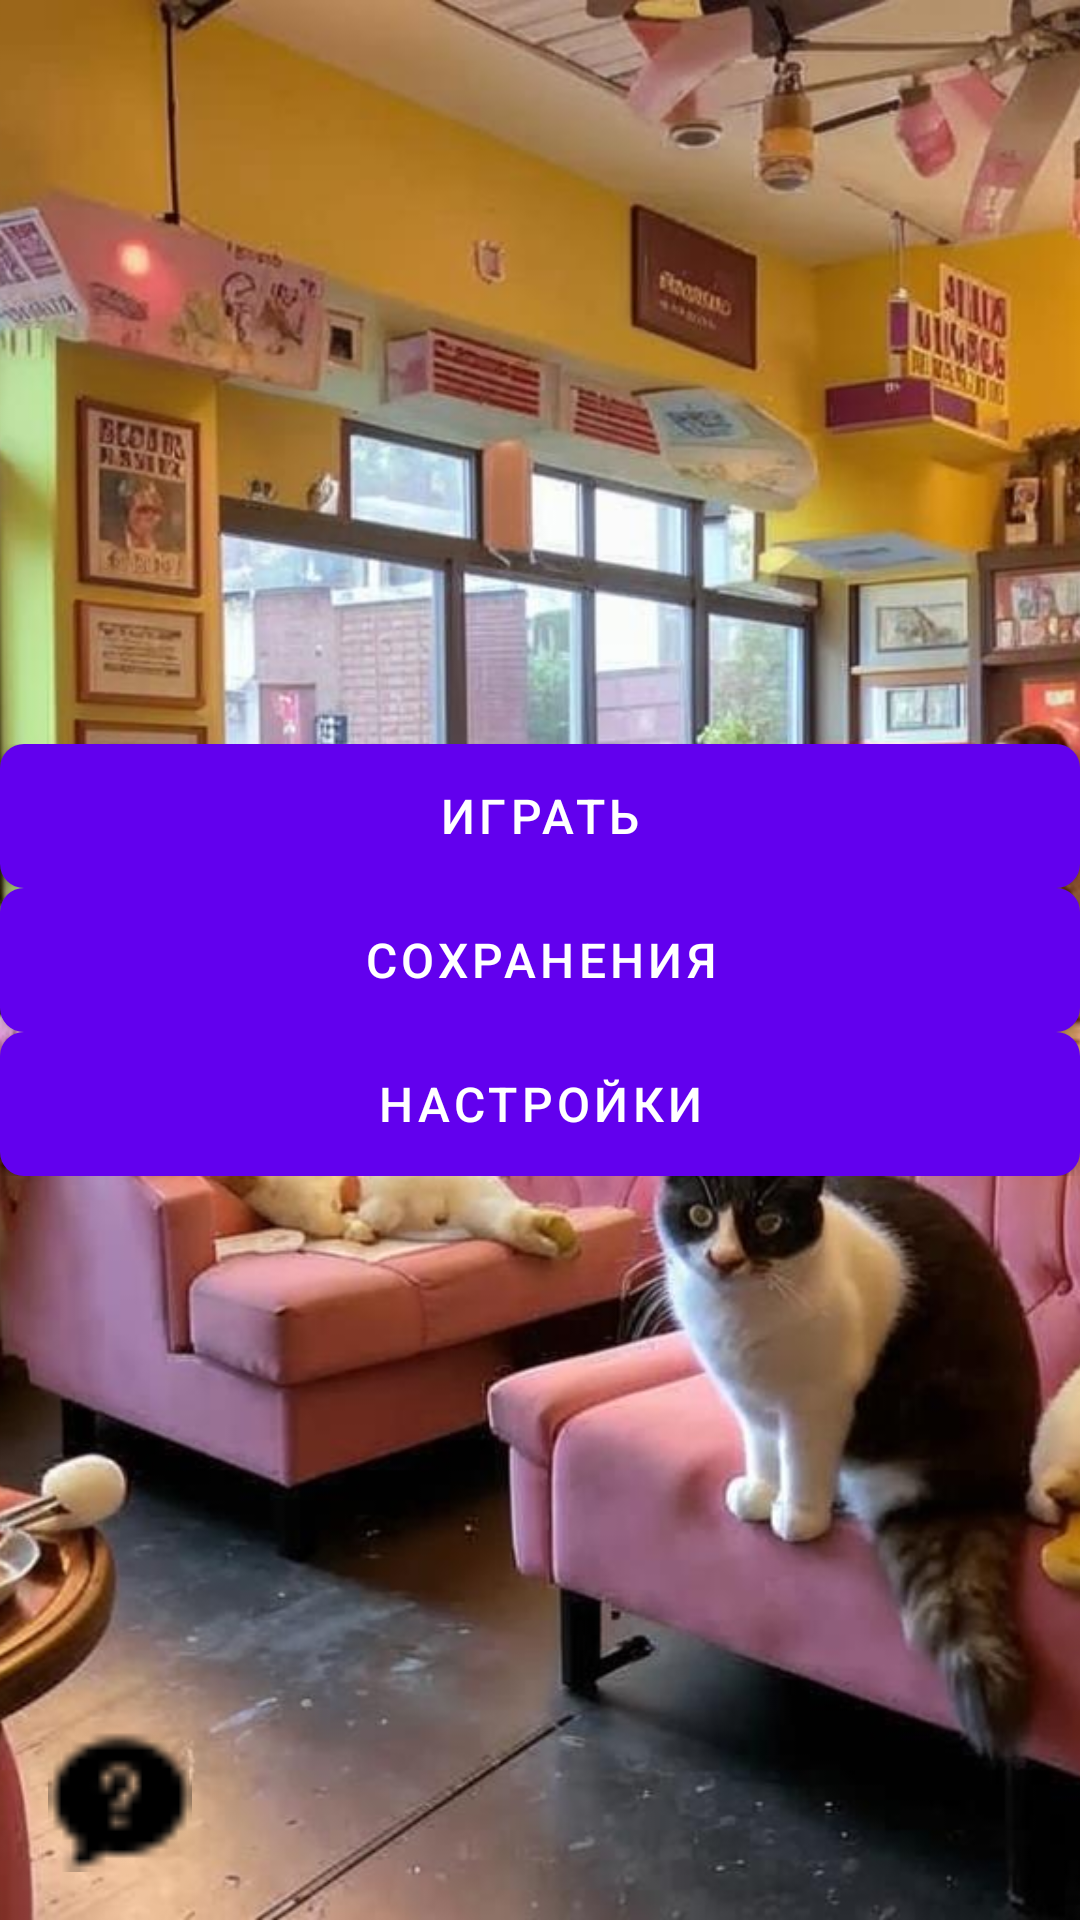

Named icons in this screenshot (1080*1920) and their centers, (x=x, y=y):
question: (x=120, y=1800)
